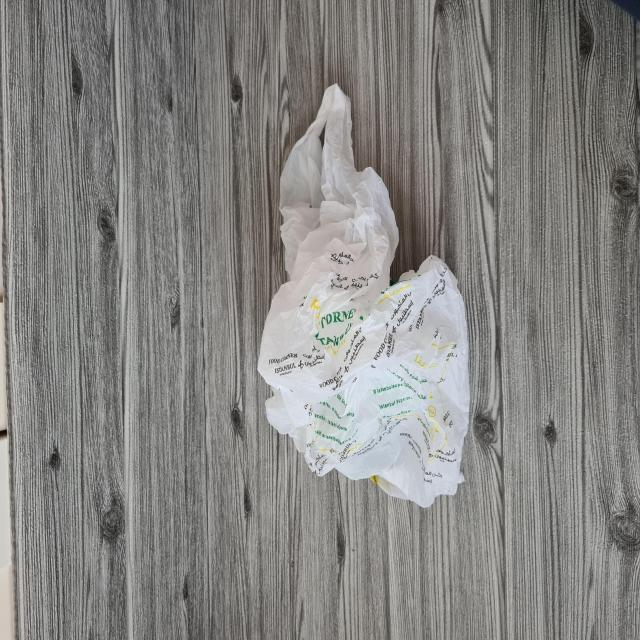plastic bag: (254, 86, 472, 510)
